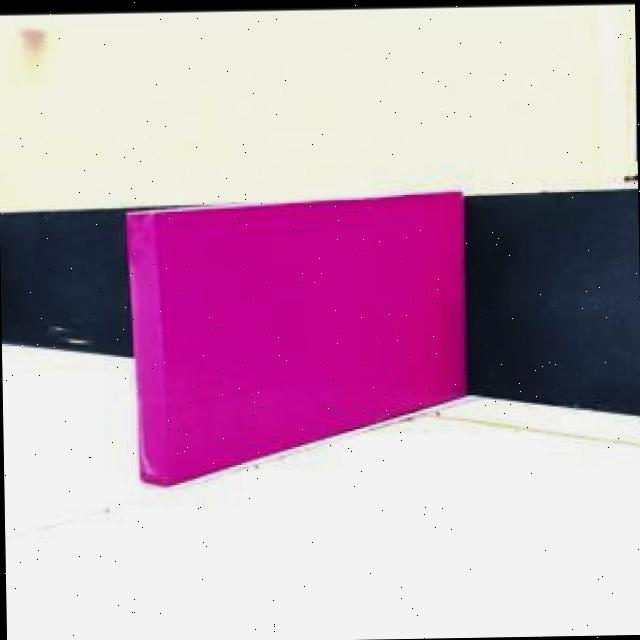xparking: (128, 202, 462, 435)
